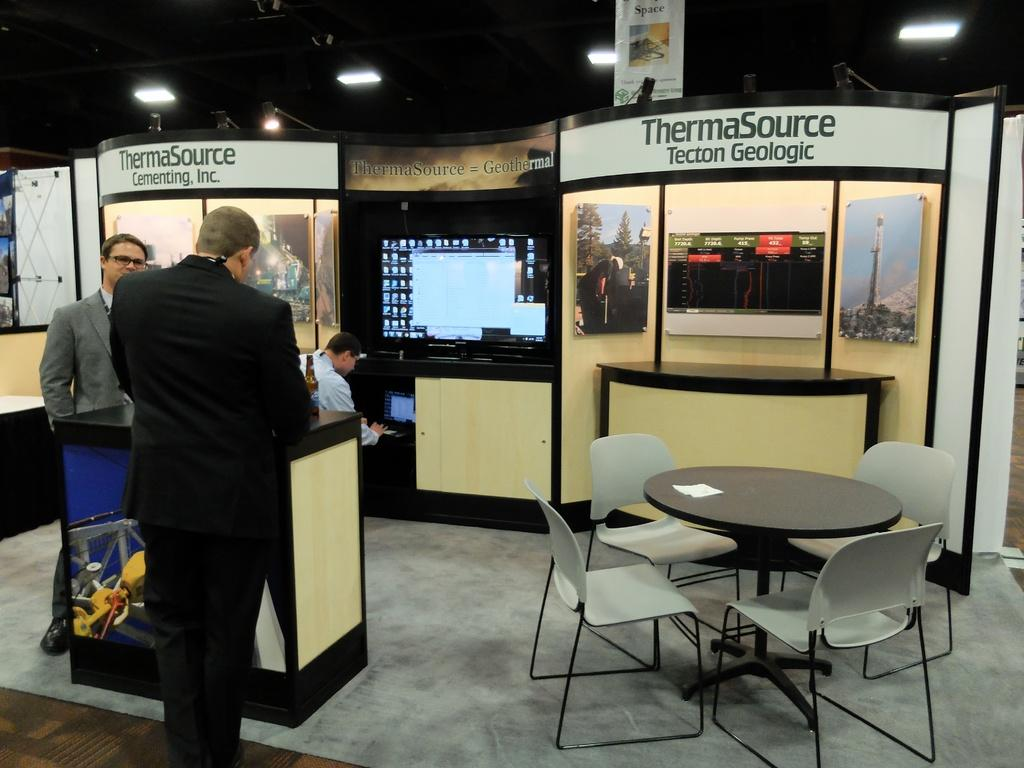Chair: (710, 521, 945, 767), (523, 477, 705, 749), (781, 440, 956, 677), (585, 432, 742, 650)
Computer-monitor: (370, 227, 553, 359)
Laptop: (379, 388, 415, 438)
